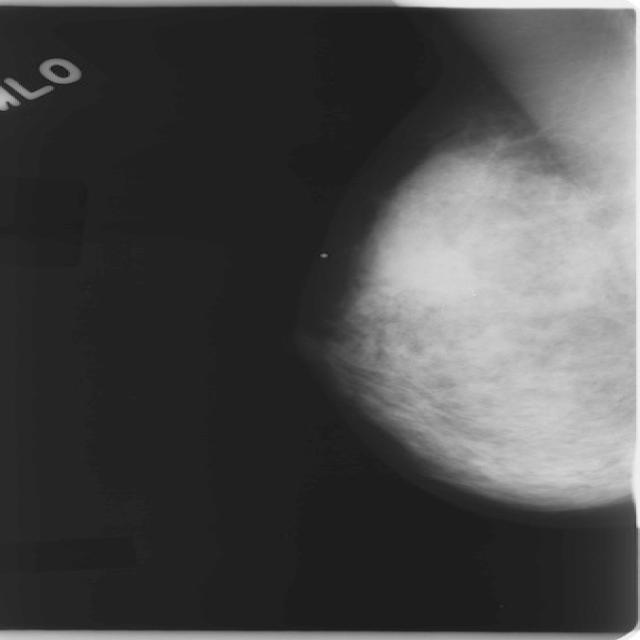tumour: (379, 247, 473, 297)
